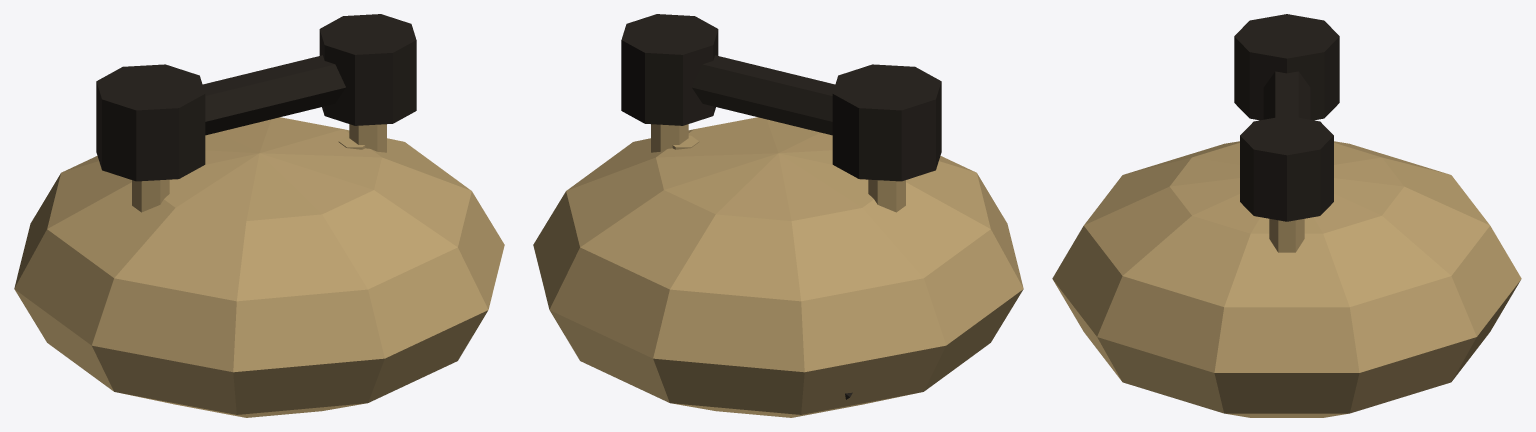
File: telephone.obj
The picture shows the model from 3 angles, left to right: view 1: azimuth 30°, elevation 25°; view 2: azimuth 150°, elevation 25°; view 3: azimuth 270°, elevation 25°; orthographic projection. The views are drawn at different scales.
Parts seen in each view (by area): view 1: Telephone; view 2: Telephone; view 3: Telephone.
Part boxes in pixels (x1=…): Telephone: x1=14, y1=14, x2=504, y2=417; Telephone: x1=533, y1=14, x2=1023, y2=417; Telephone: x1=1052, y1=14, x2=1521, y2=417.
Size of the model in its own units: 0.1522 by 0.1125 by 0.16.
